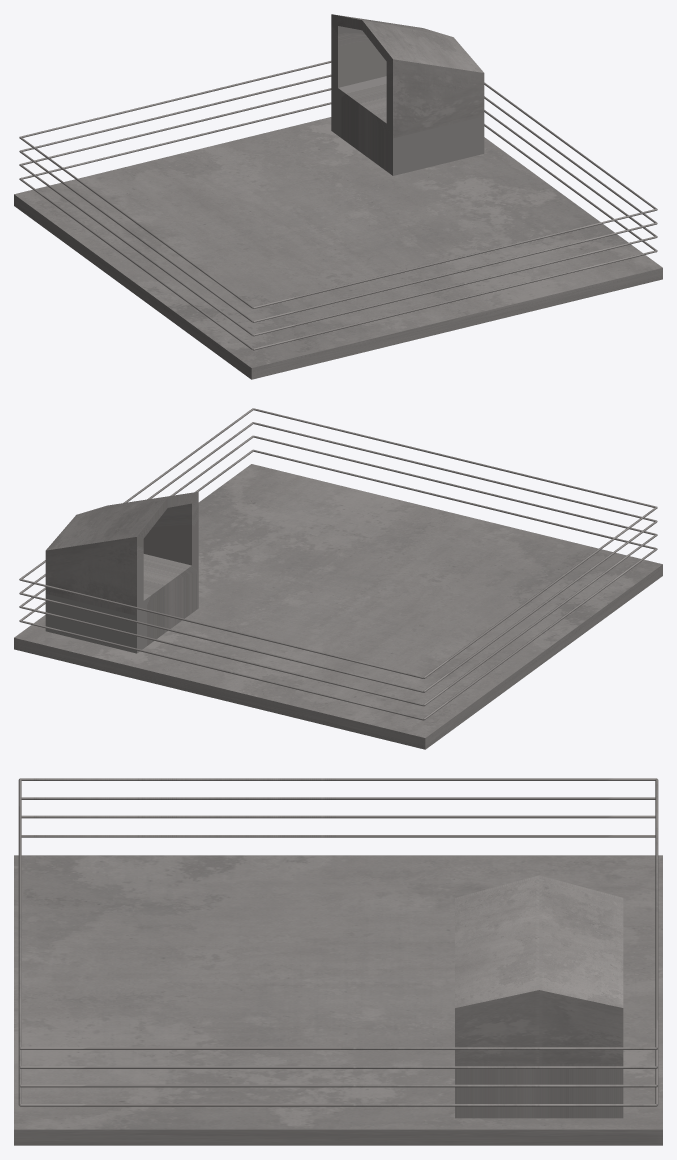
File: platform_concrete_test_02 1.fbx
3 renders of one model, top to bottom at view 1: azimuth 30°, elevation 25°; view 2: azimuth 150°, elevation 25°; view 3: azimuth 270°, elevation 25°, orthographic. The views are drawn at different scales.
Parts seen in each view (by area): view 1: pCube1, pCube2, sweep13, sweep1, sweep5, sweep9, sweep15, sweep11, sweep7, sweep3, sweep2, sweep6 (+6 smaller); view 2: pCube1, pCube2, sweep3, sweep11, sweep7, sweep15, sweep13, sweep9, sweep5, sweep1, sweep2, sweep6 (+2 smaller); view 3: pCube1, pCube2, sweep8, sweep6, sweep4, sweep12, sweep16, sweep14, sweep2, sweep10, sweep13, sweep15.
Boxes of the visible parts, <box> form: pCube1: <box>14,117,662,379</box>; pCube2: <box>331,14,484,175</box>; sweep13: <box>253,209,657,308</box>; sweep1: <box>253,250,657,350</box>; sweep5: <box>253,236,657,336</box>; sweep9: <box>253,222,657,322</box>; sweep15: <box>20,61,331,137</box>; sweep11: <box>20,74,331,151</box>; sweep7: <box>21,88,331,165</box>; sweep3: <box>20,102,331,179</box>; sweep2: <box>19,178,253,350</box>; sweep6: <box>19,164,253,336</box>; pCube1: <box>14,464,662,749</box>; pCube2: <box>45,491,198,653</box>; sweep3: <box>19,620,423,720</box>; sweep11: <box>19,592,423,692</box>; sweep7: <box>19,606,423,706</box>; sweep15: <box>19,579,423,678</box>; sweep13: <box>253,408,656,507</box>; sweep9: <box>253,422,656,521</box>; sweep5: <box>253,435,655,535</box>; sweep1: <box>253,449,656,549</box>; sweep2: <box>423,548,657,720</box>; sweep6: <box>423,534,657,706</box>; pCube1: <box>14,855,662,1145</box>; pCube2: <box>455,875,623,1118</box>; sweep8: <box>20,1084,656,1087</box>; sweep6: <box>21,815,655,818</box>; sweep4: <box>20,1104,656,1106</box>; sweep12: <box>20,1066,656,1068</box>; sweep16: <box>20,1047,656,1049</box>; sweep14: <box>20,778,656,780</box>; sweep2: <box>21,835,655,837</box>; sweep10: <box>21,797,655,799</box>; sweep13: <box>18,778,21,1049</box>; sweep15: <box>655,778,658,1049</box>.
Bounding box in the file's own units: 740 × 249 × 740.
